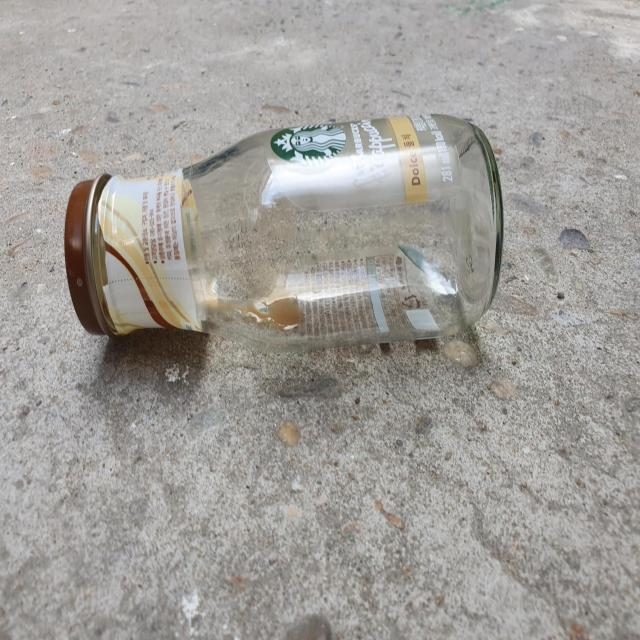glass: (64, 113, 504, 350)
